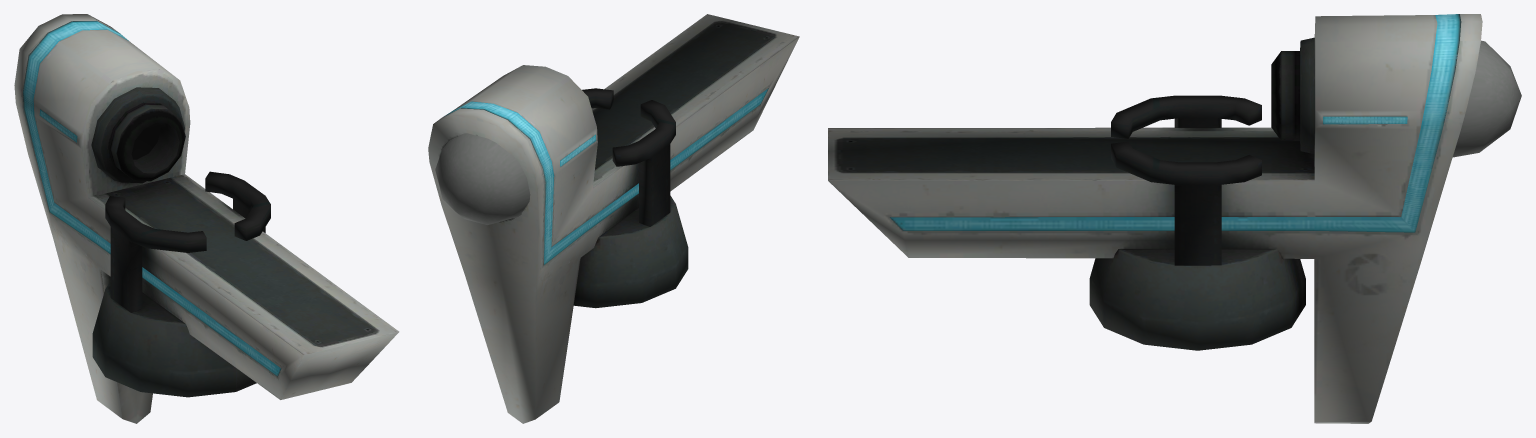
Rendered from Lightrail_Endcap.fbx.
3 views of the same model, side by side, from view 1: azimuth 30°, elevation 25°; view 2: azimuth 150°, elevation 25°; view 3: azimuth 270°, elevation 25° (orthographic). The views are drawn at different scales.
Parts seen in each view (by area): view 1: LightRailEndcap; view 2: LightRailEndcap; view 3: LightRailEndcap.
Boxes of the visible parts, bbox=[...] form: LightRailEndcap: bbox=[14, 14, 399, 423]; LightRailEndcap: bbox=[428, 14, 799, 423]; LightRailEndcap: bbox=[828, 14, 1521, 423].
Bounding box in the file's own units: 95.11 × 305 × 195.
